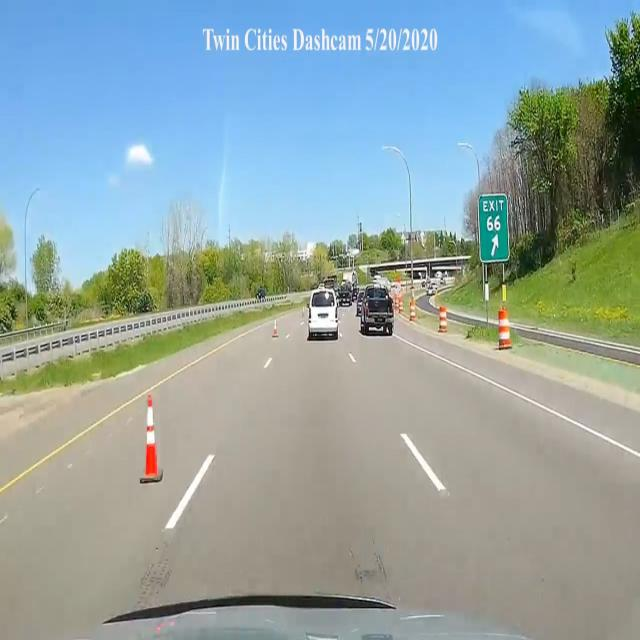Traffic Cone: (139, 389, 162, 485), (271, 318, 279, 342)
